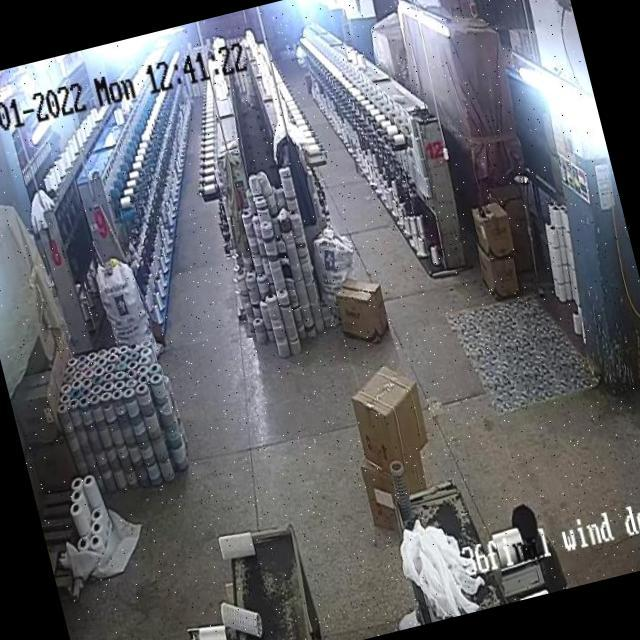person: (504, 500, 562, 588)
